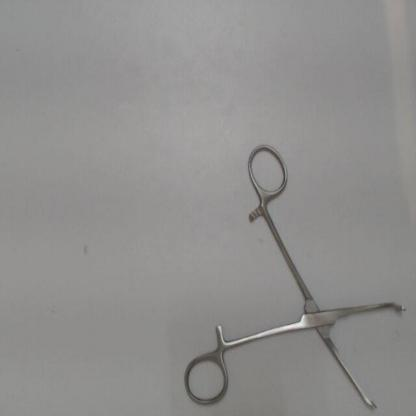Allis Tissue Forceps: (178, 136, 411, 414)
